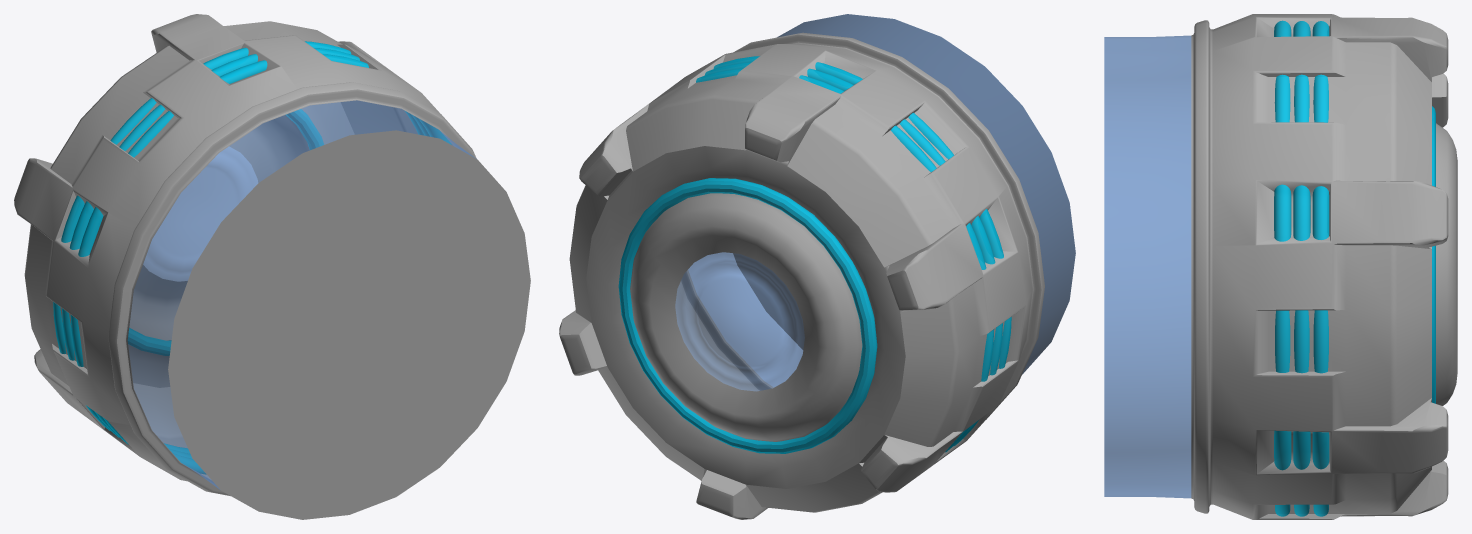
The model's file is AlarmlightPlaceholder.fbx.
3 views of the same model, side by side, from view 1: azimuth 30°, elevation 25°; view 2: azimuth 150°, elevation 25°; view 3: azimuth 270°, elevation 25° (orthographic). The views are drawn at different scales.
Parts seen in each view (by area): view 1: pTorus13; view 2: pTorus13; view 3: pTorus13.
Part boxes in pixels (x1,y1,x2,y2): pTorus13: [14, 14, 530, 519]; pTorus13: [559, 14, 1075, 519]; pTorus13: [1104, 14, 1457, 519].
Bounding box in the file's own units: 40.94 × 41.01 × 28.49.
